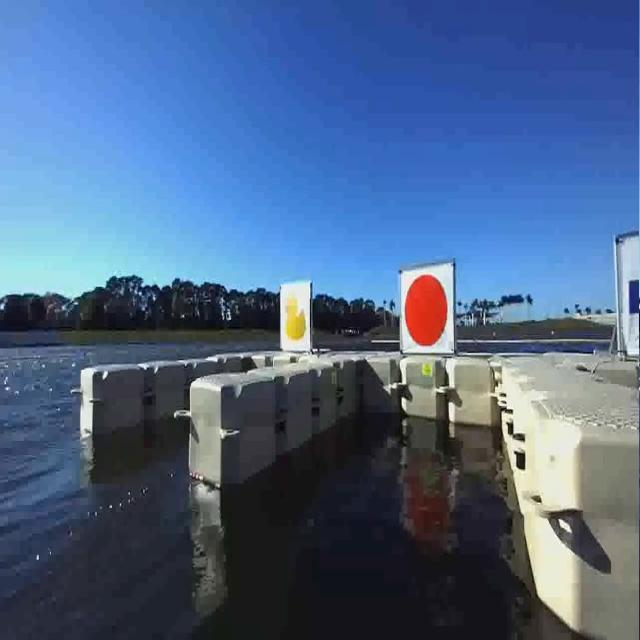blue-cross: (611, 232, 640, 360)
red-dot: (399, 261, 456, 354)
yellow-duck: (278, 280, 310, 350)
